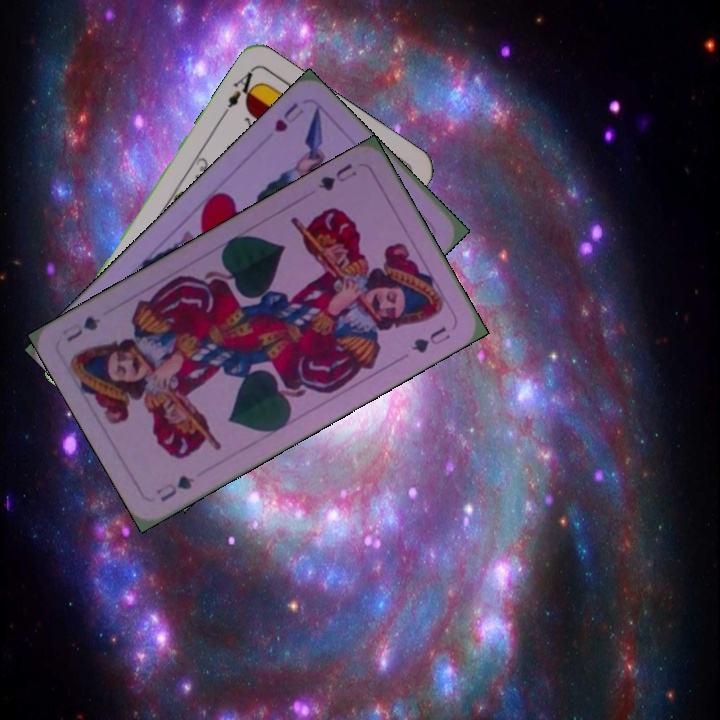EA: (219, 65, 262, 119)
GU: (313, 159, 360, 194), (152, 471, 197, 505)
HU: (270, 97, 307, 135)
